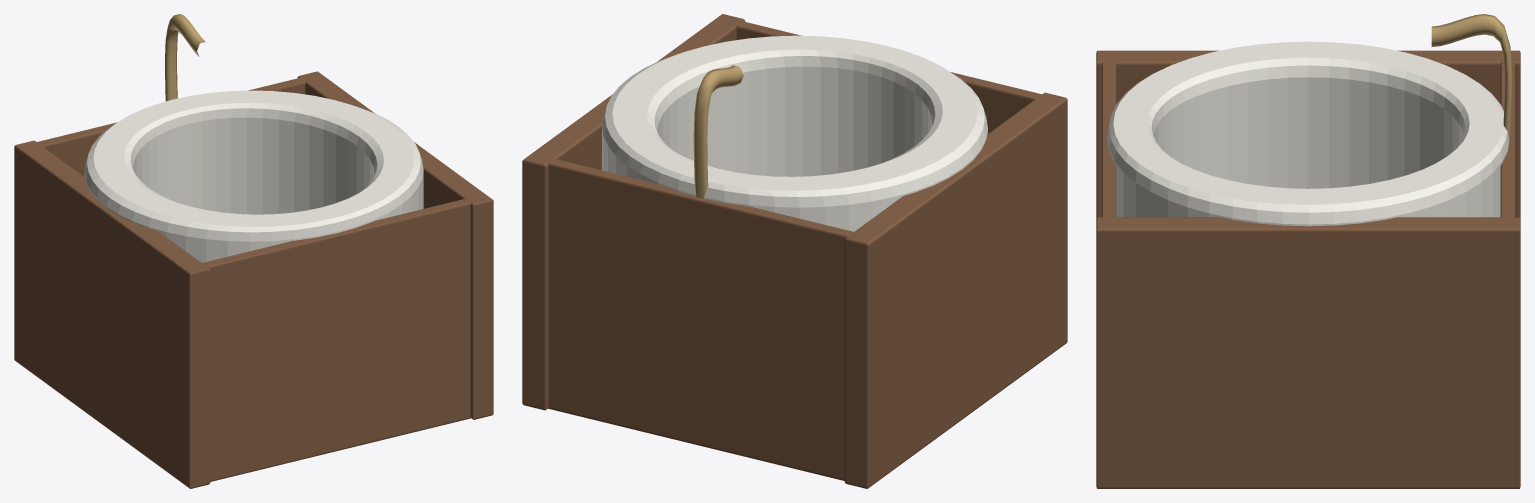
The model's file is bath-10-1.glb.
The picture shows the model from 3 angles, left to right: view 1: azimuth 30°, elevation 25°; view 2: azimuth 150°, elevation 25°; view 3: azimuth 270°, elevation 25°; orthographic projection. The views are drawn at different scales.
Parts seen in each view (by area): view 1: bath-apron, part (×2); view 2: bath-apron, part (×2); view 3: bath-apron, part (×2).
Boxes of the visible parts, x1,y1,x2,y2 form: bath-apron: (14,71,493,488); part (×2): (84,14,423,262); bath-apron: (522,14,1067,488); part (×2): (602,35,987,231); bath-apron: (1096,50,1520,488); part (×2): (1107,14,1512,226).
Bounding box in the file's own units: 1 × 1 × 1.
